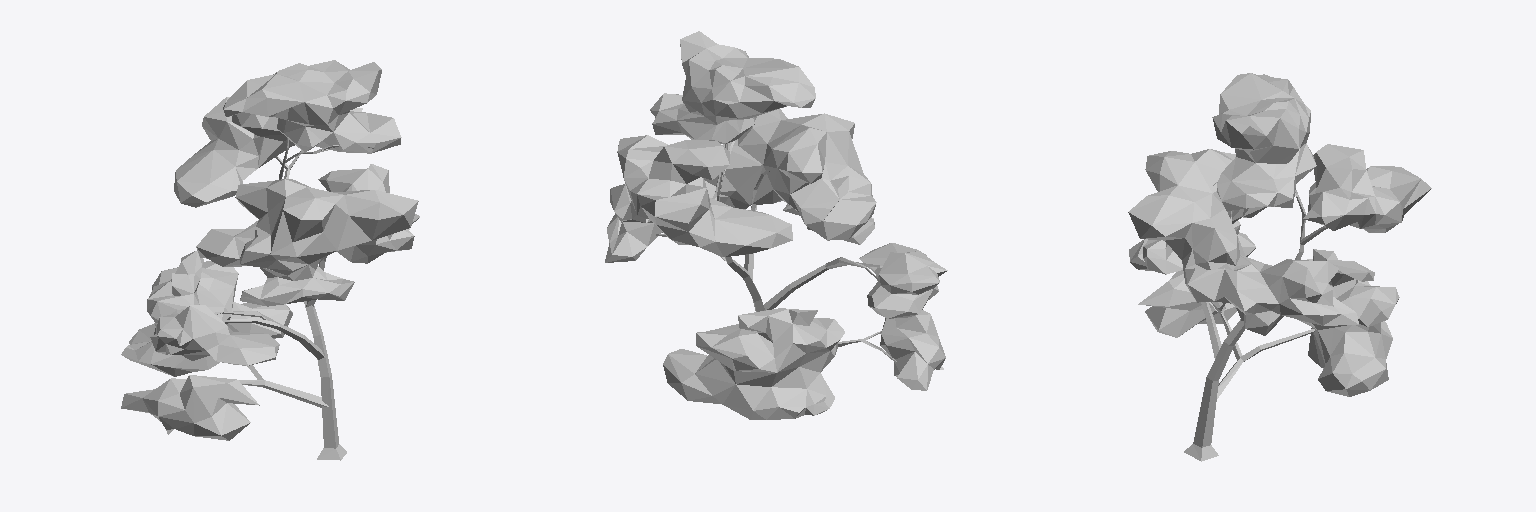
File: tree.obj
3 views of the same model, side by side, from view 1: azimuth 30°, elevation 25°; view 2: azimuth 150°, elevation 25°; view 3: azimuth 270°, elevation 25° (orthographic).
Parts seen in each view (by area): view 1: tree; view 2: tree; view 3: tree.
Boxes of the visible parts, x1=… form: tree: x1=121, y1=60, x2=419, y2=460; tree: x1=605, y1=31, x2=947, y2=419; tree: x1=1128, y1=73, x2=1431, y2=461.
Bounding box in the file's own units: 1286 × 1518 × 1148.